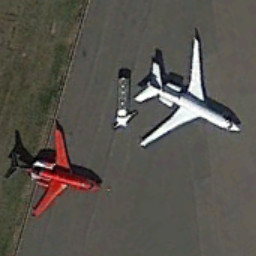Airplane: (130, 25, 249, 162), (2, 115, 108, 222)
